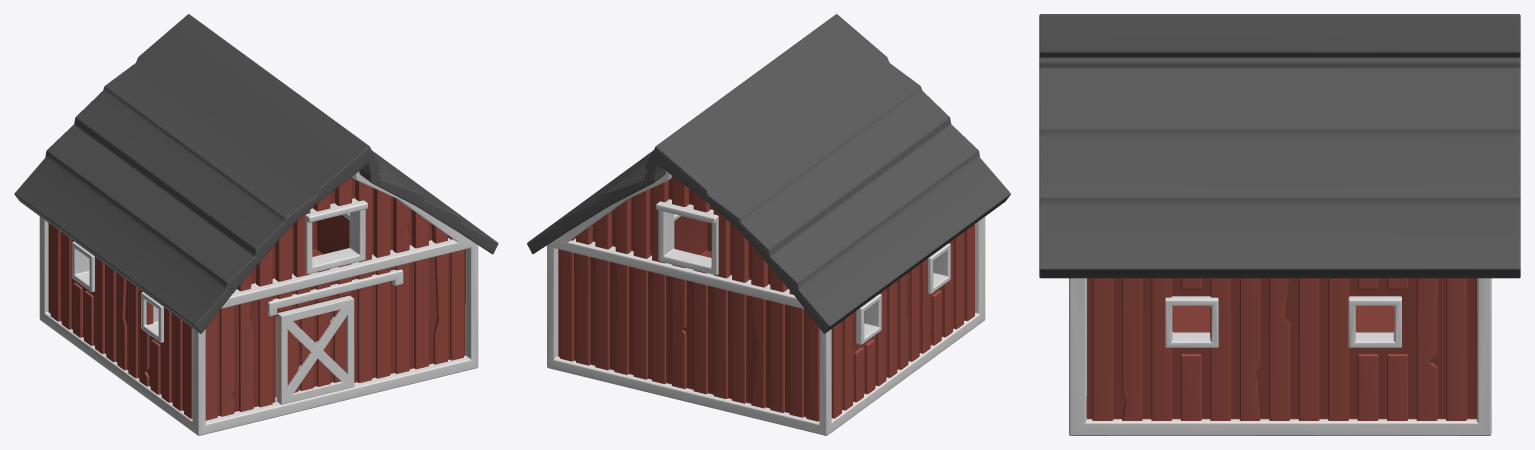
The model's file is SmallBarn.glb.
The picture shows the model from 3 angles, left to right: view 1: azimuth 30°, elevation 25°; view 2: azimuth 150°, elevation 25°; view 3: azimuth 270°, elevation 25°; orthographic projection. The views are drawn at different scales.
Visible parts, largest first — view 1: Small_Barn, Small_Barn_Door; view 2: Small_Barn; view 3: Small_Barn.
Boxes of the visible parts, x1=… form: Small_Barn: x1=14, y1=14, x2=498, y2=435; Small_Barn_Door: x1=276, y1=295, x2=354, y2=404; Small_Barn: x1=527, y1=14, x2=1010, y2=435; Small_Barn: x1=1039, y1=14, x2=1520, y2=435.
Size of the model in its own units: 6.06 by 4.95 by 6.27.
